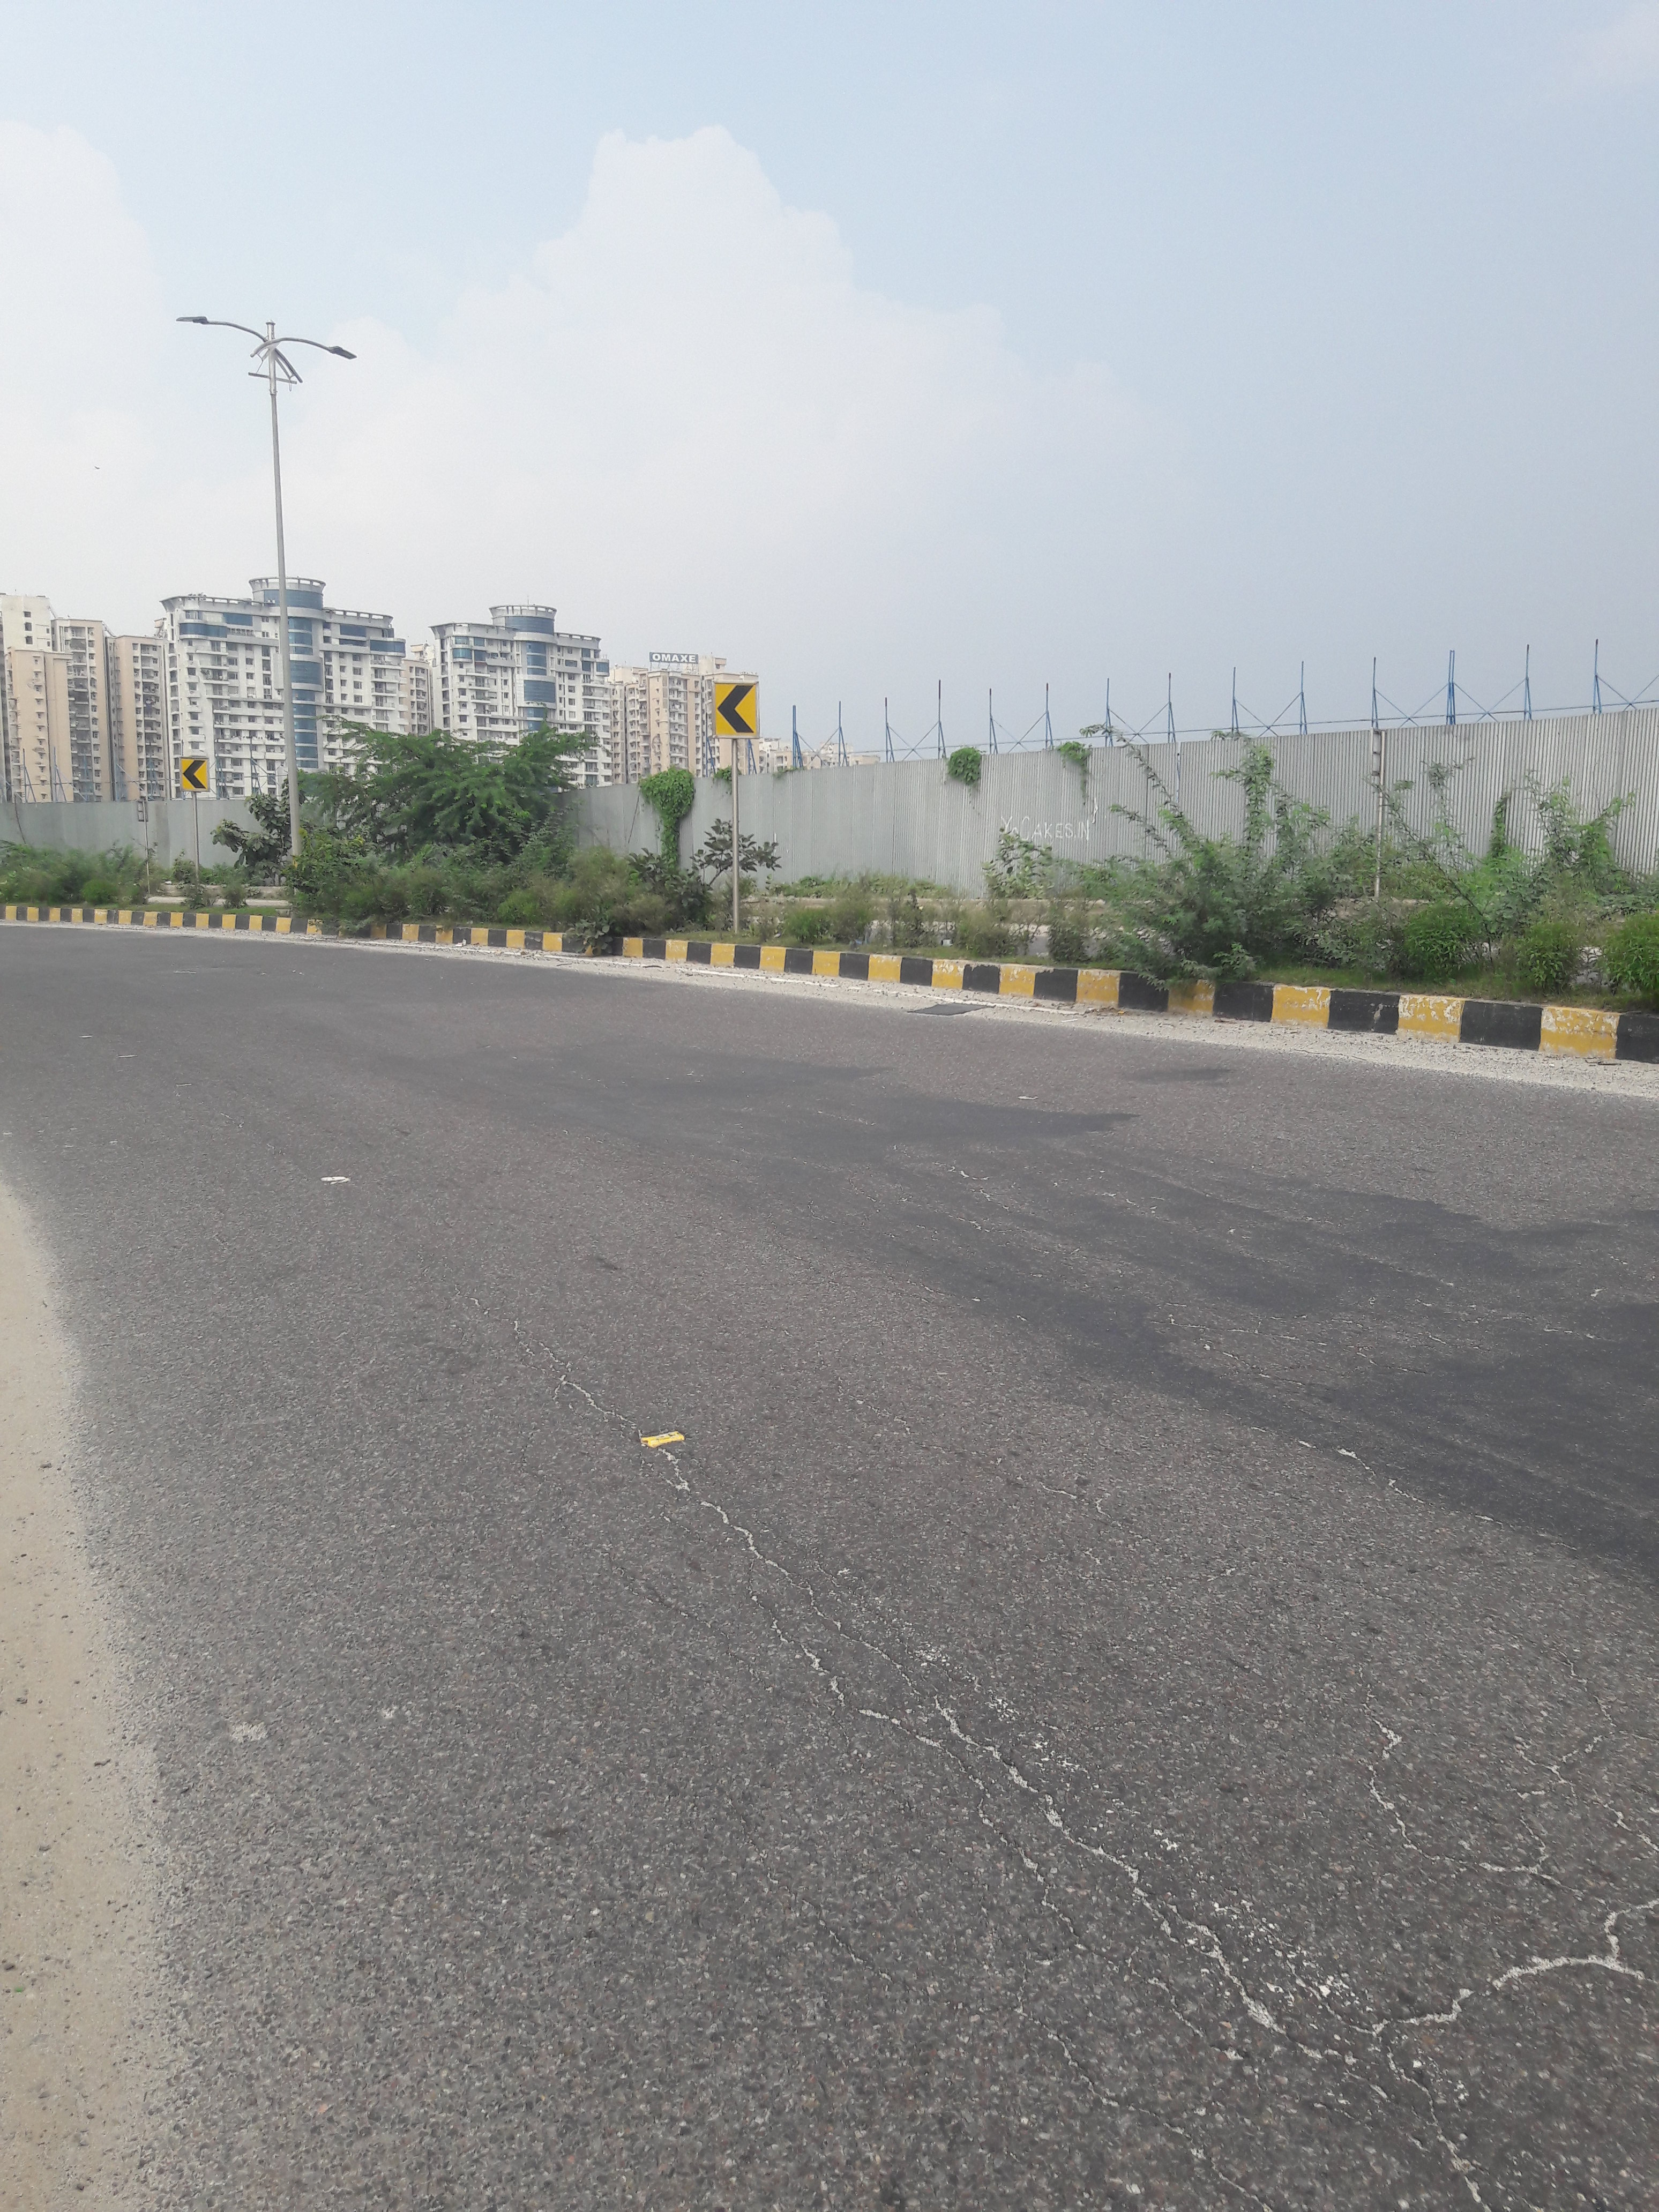traffic_sign: (711, 681, 758, 740), (179, 758, 211, 792)
